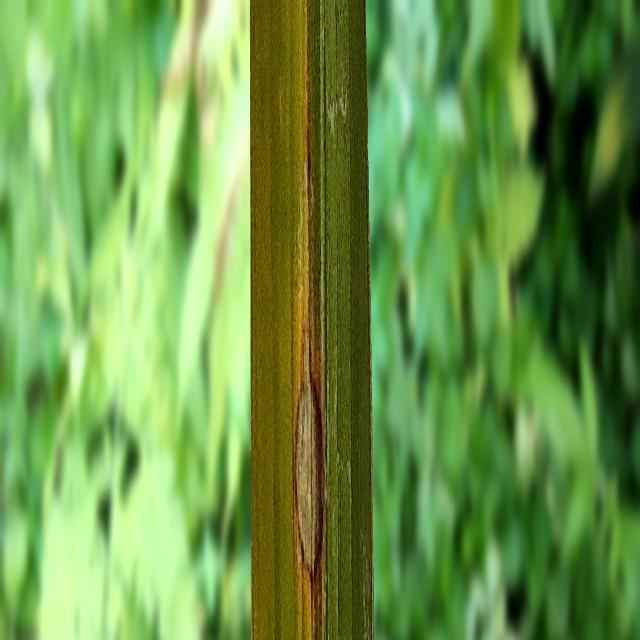LEAF BLAST: (294, 375, 323, 590)
